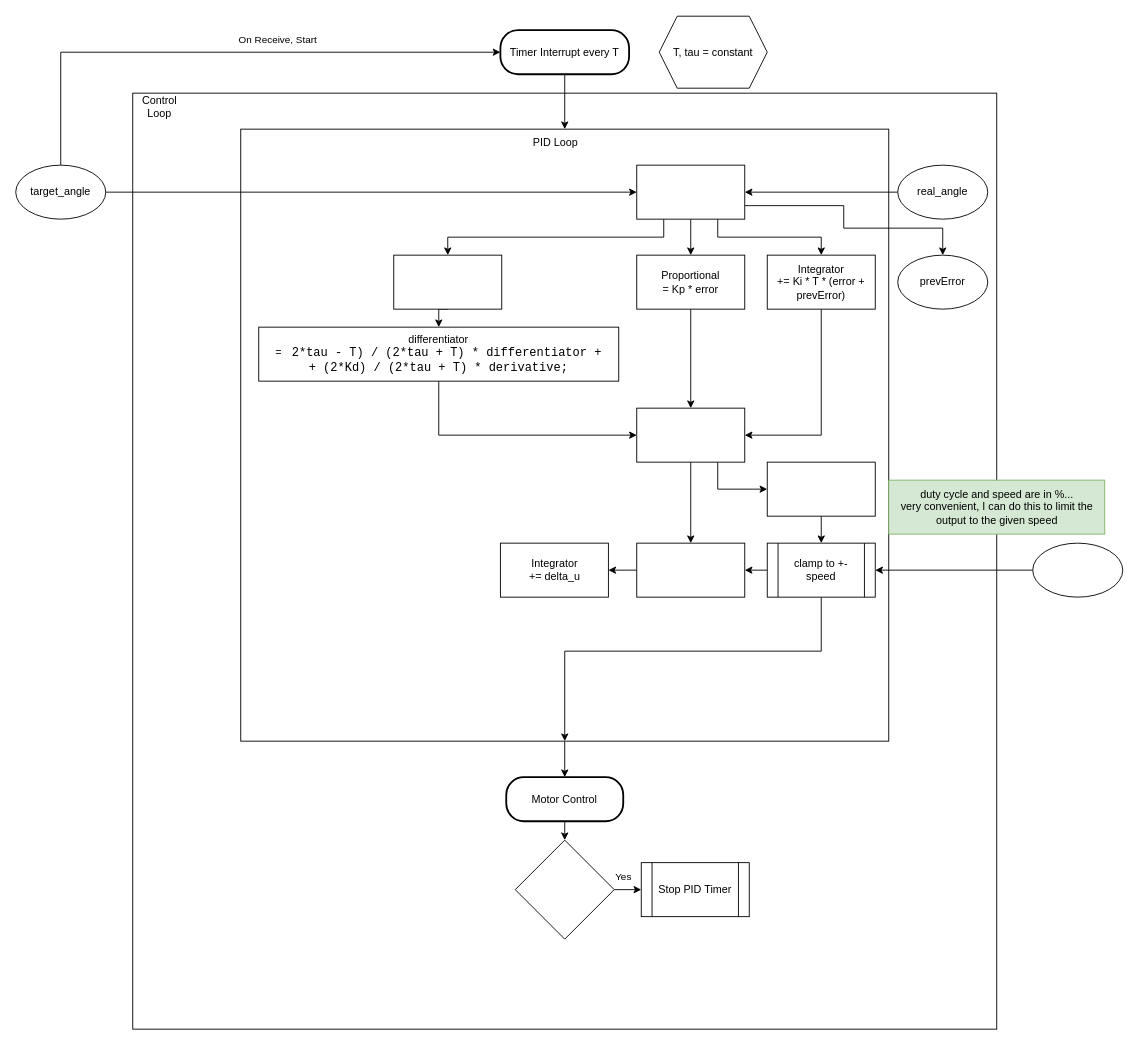
This 1139x1045 diagram has some shape labels left out. The box of each missing label's shape, as (x1, y1, x2, y2) in pixels:
delta_u = output - output_limited: (636, 542, 745, 597)
derivative = (error - prevError) / T: (393, 254, 502, 309)
error = target - real: (636, 164, 745, 219)
output = proportional + integrator + differentiator: (636, 407, 745, 462)
output_limited = output: (766, 461, 875, 516)
real_angle ~= target_angle?: (514, 839, 614, 939)
speed (%): (1032, 542, 1123, 597)
